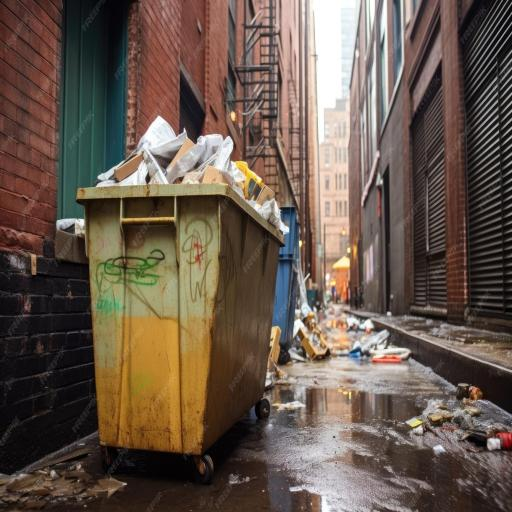contenedor_lleno: (77, 117, 284, 484)
